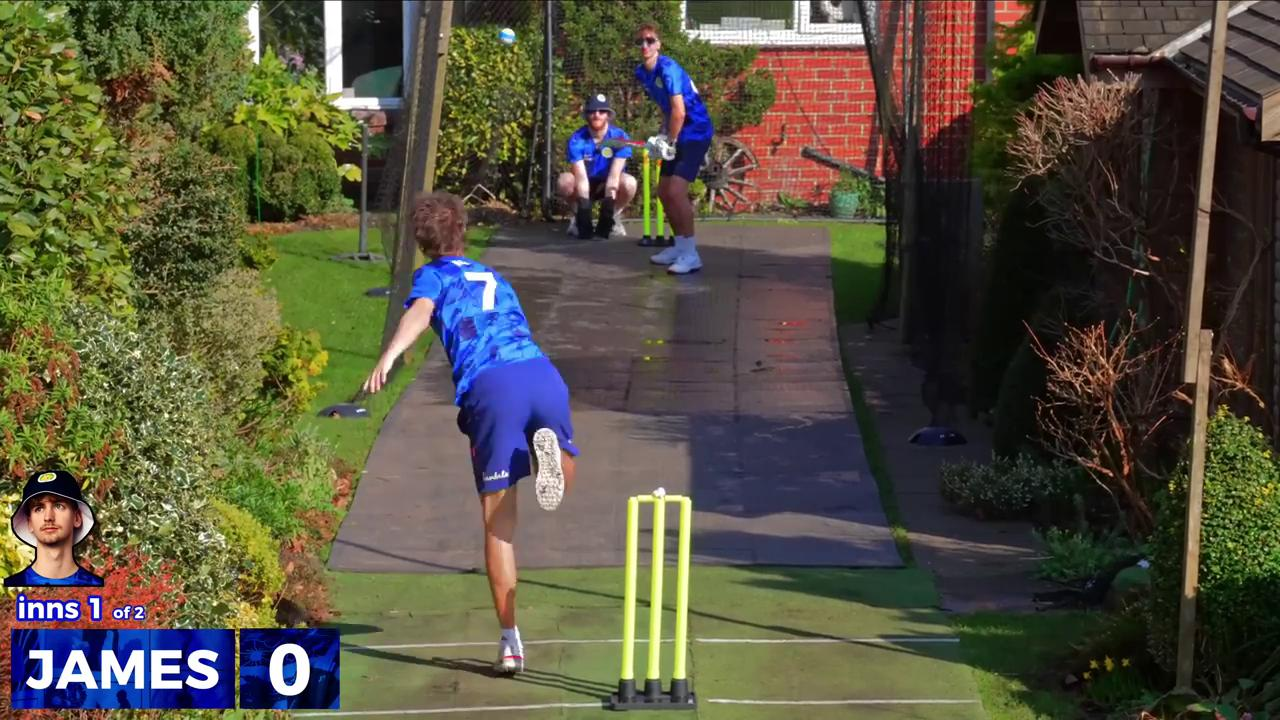ball: (491, 22, 520, 49)
